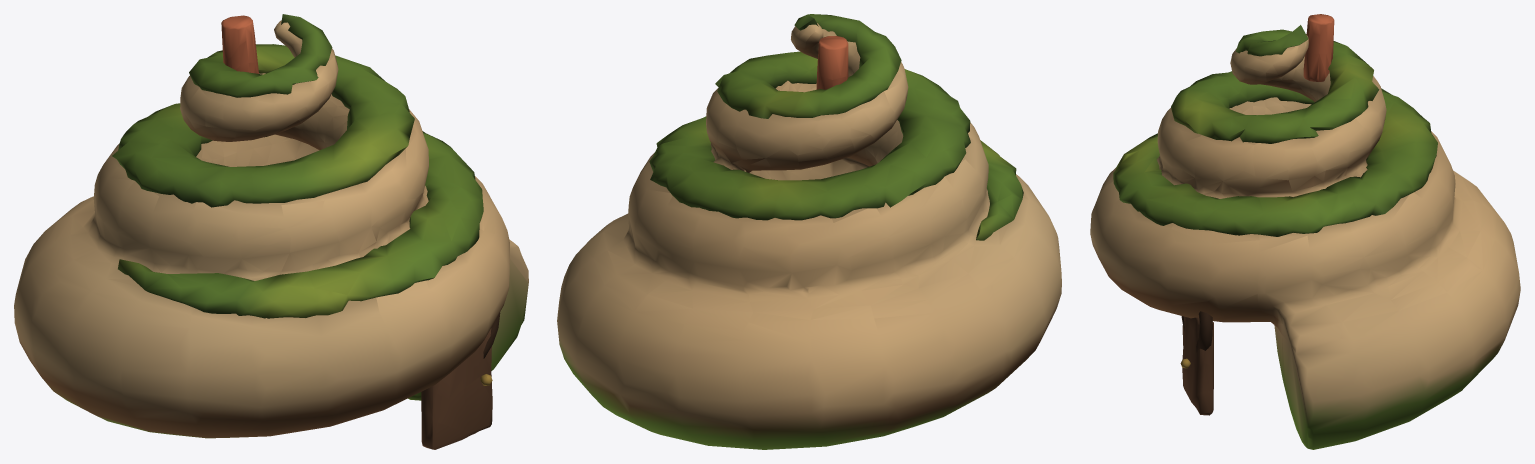
File: mire_snail_shell_lod1.glb
3 views of the same model, side by side, from view 1: azimuth 30°, elevation 25°; view 2: azimuth 150°, elevation 25°; view 3: azimuth 270°, elevation 25° (orthographic). The views are drawn at different scales.
Visible parts, largest first — view 1: mire_snail_shell.001; view 2: mire_snail_shell.001; view 3: mire_snail_shell.001.
Part boxes in pixels (bbox=[...]): mire_snail_shell.001: bbox=[14, 14, 528, 449]; mire_snail_shell.001: bbox=[557, 14, 1061, 449]; mire_snail_shell.001: bbox=[1090, 14, 1520, 449].
Size of the model in its own units: 13.02 by 10.76 by 12.25.
